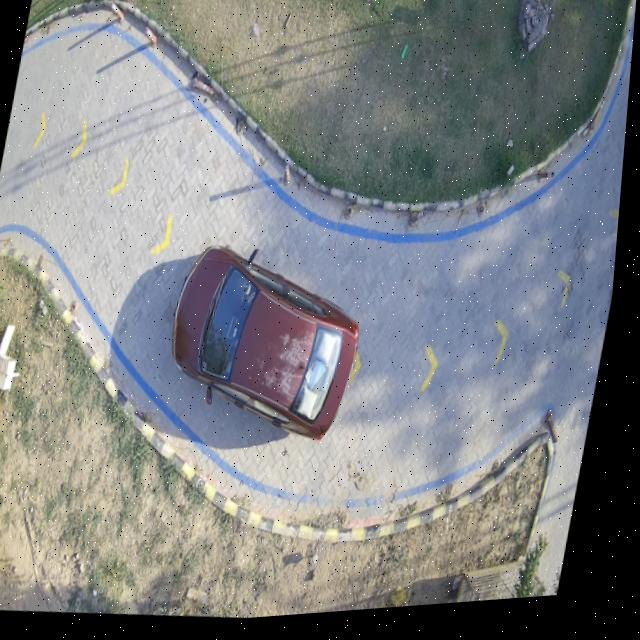car: (177, 250, 364, 443)
